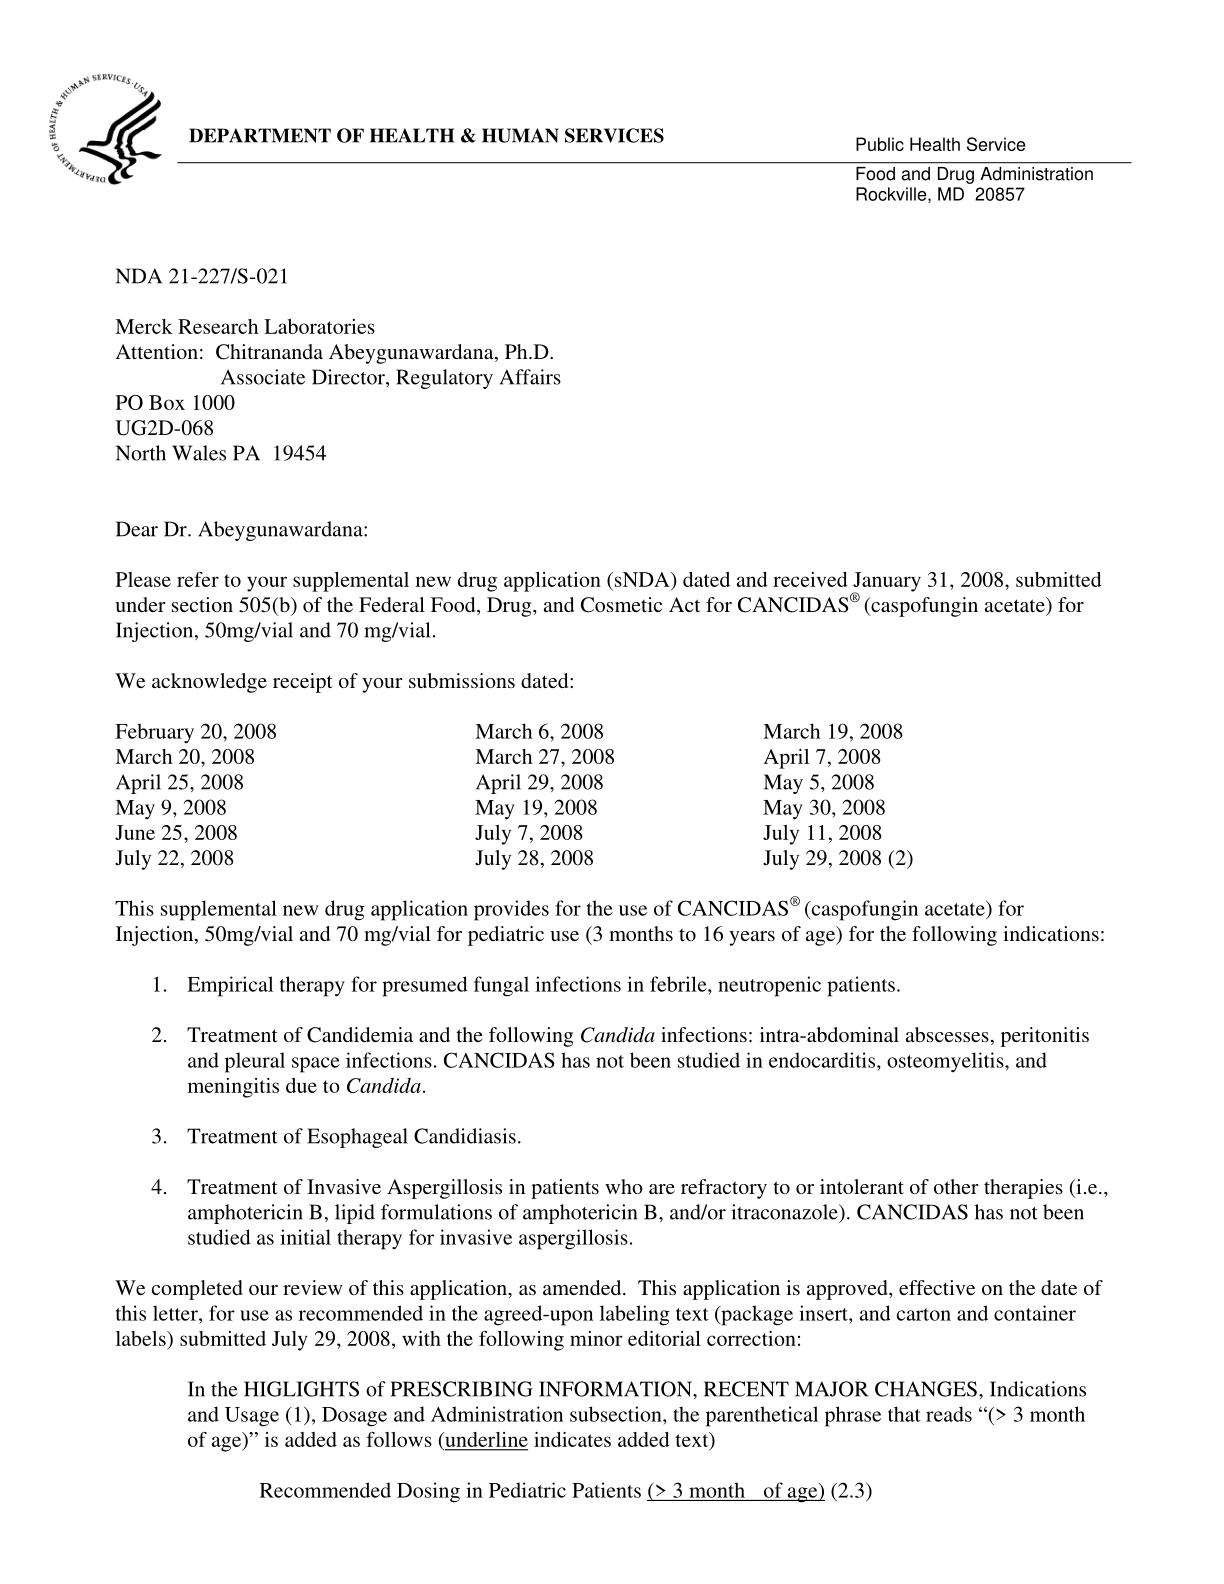nolines: (111, 719, 918, 872)
